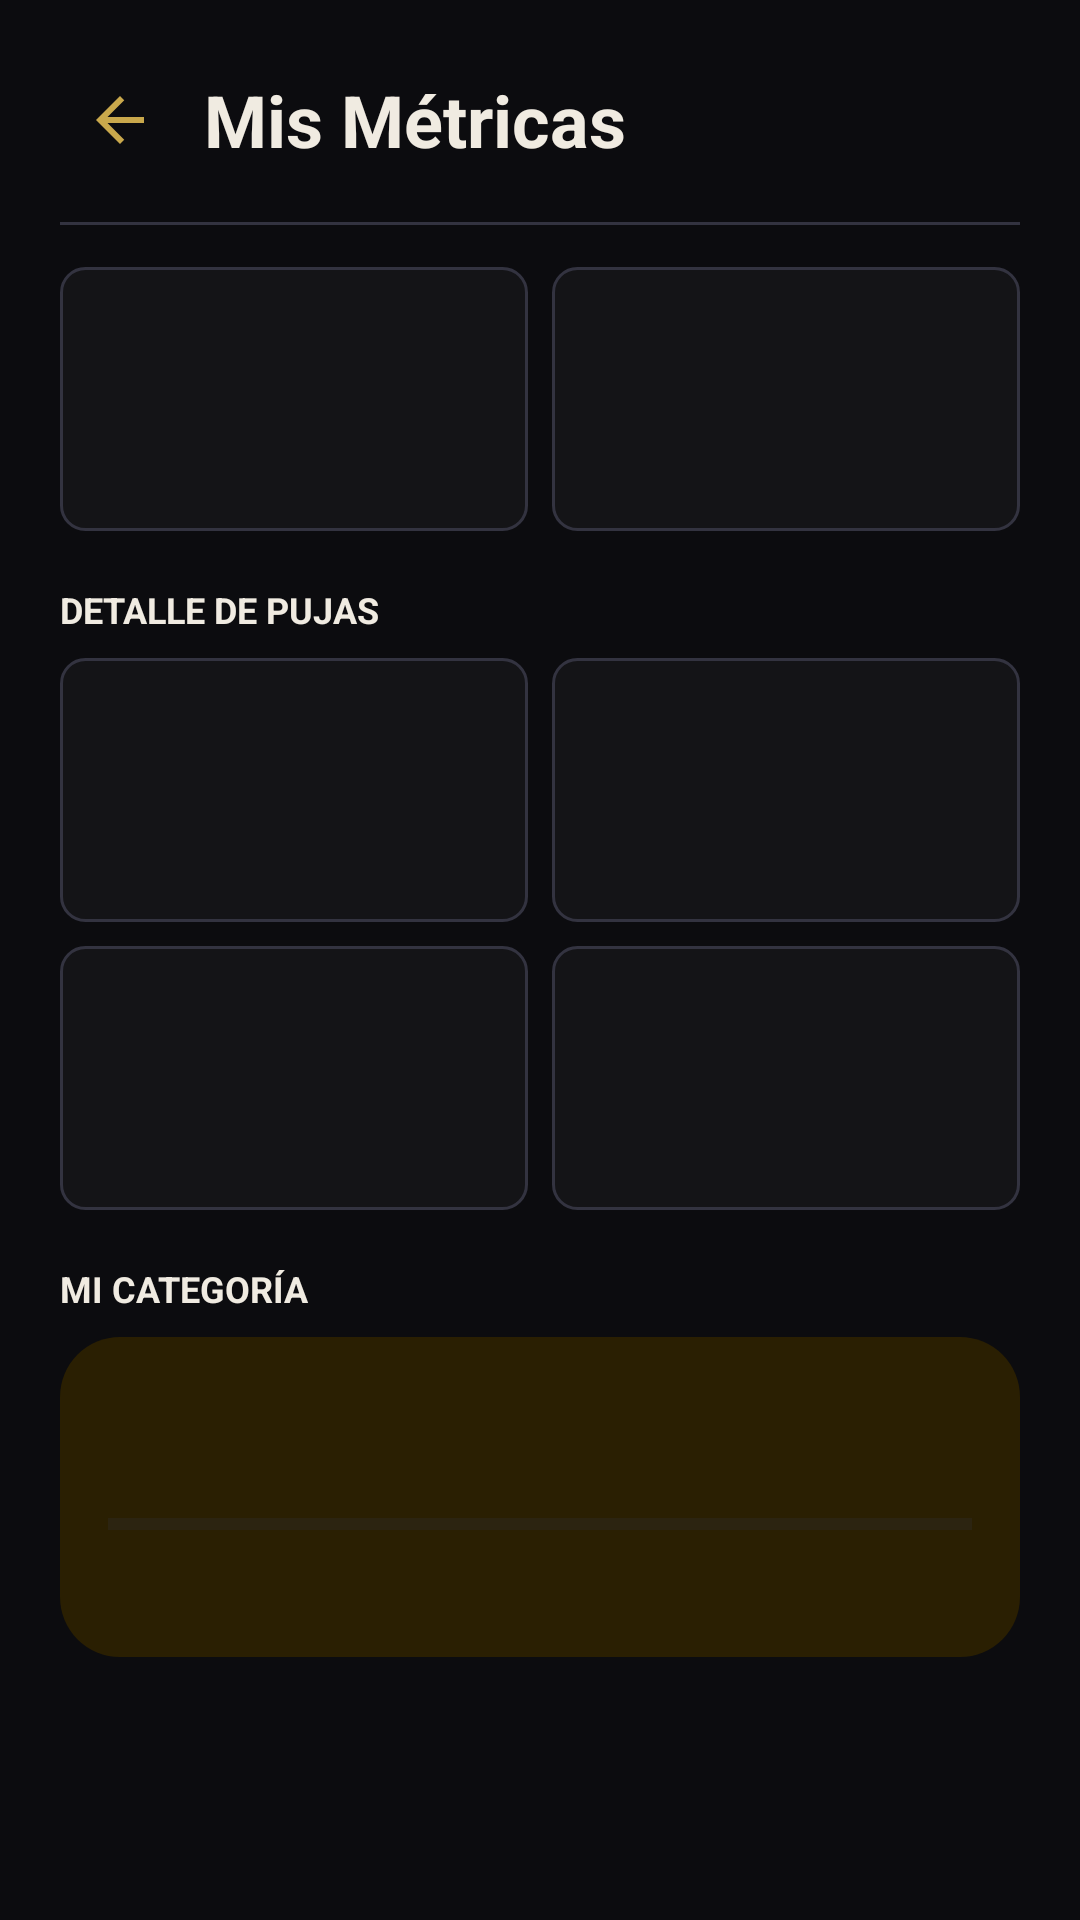

Point at icon controls on the screen. Image size 1080×1920, points as (x=x, y=y).
Volver: (x=120, y=120)
